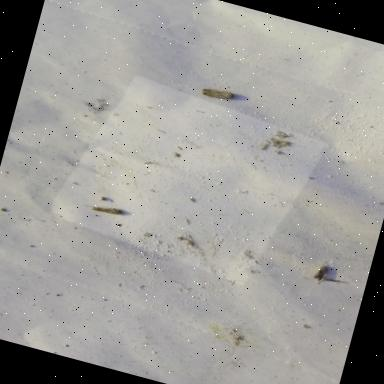pbw: (186, 74, 256, 118), (71, 192, 137, 234), (295, 252, 353, 296)
